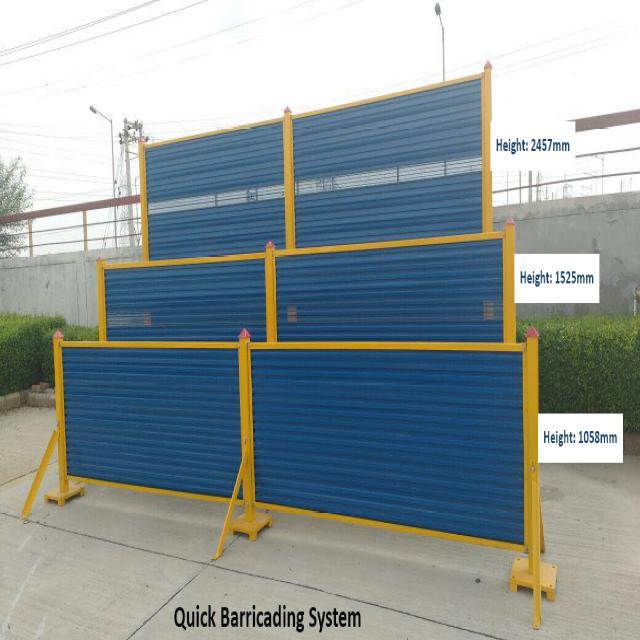cone: (21, 42, 576, 635)
